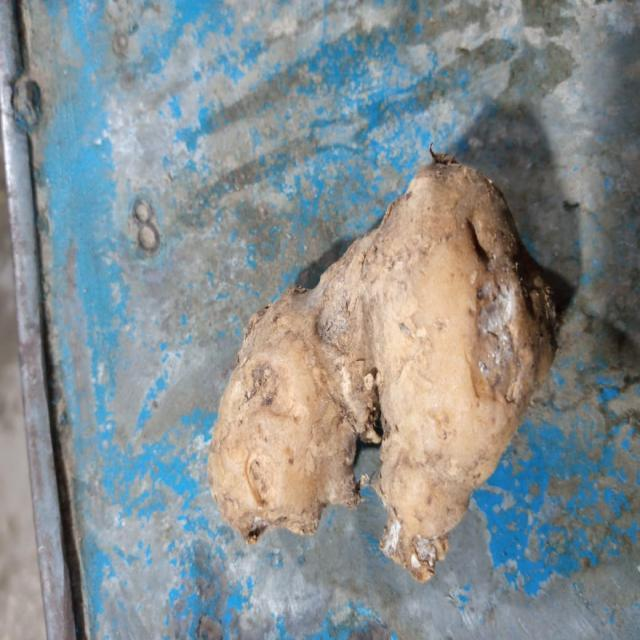ginger: (223, 169, 543, 535)
